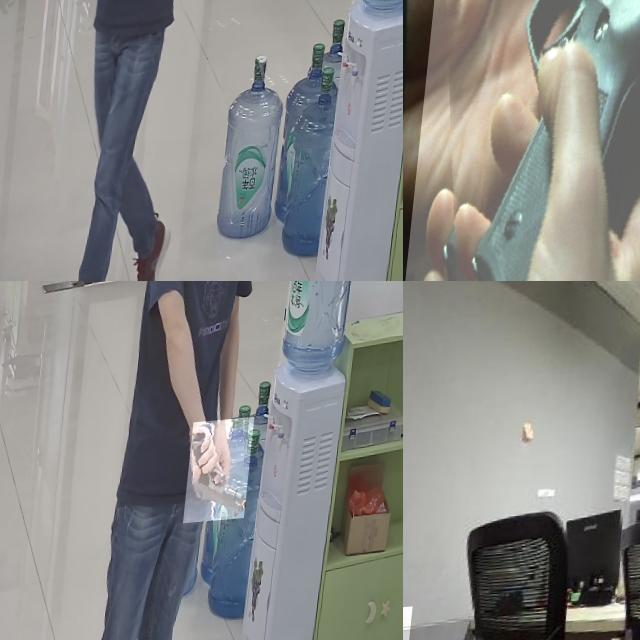gun-knife-thesis - v11 Yolov5 augmented: (414, 0, 640, 281), (194, 426, 262, 531), (0, 0, 24, 34)
